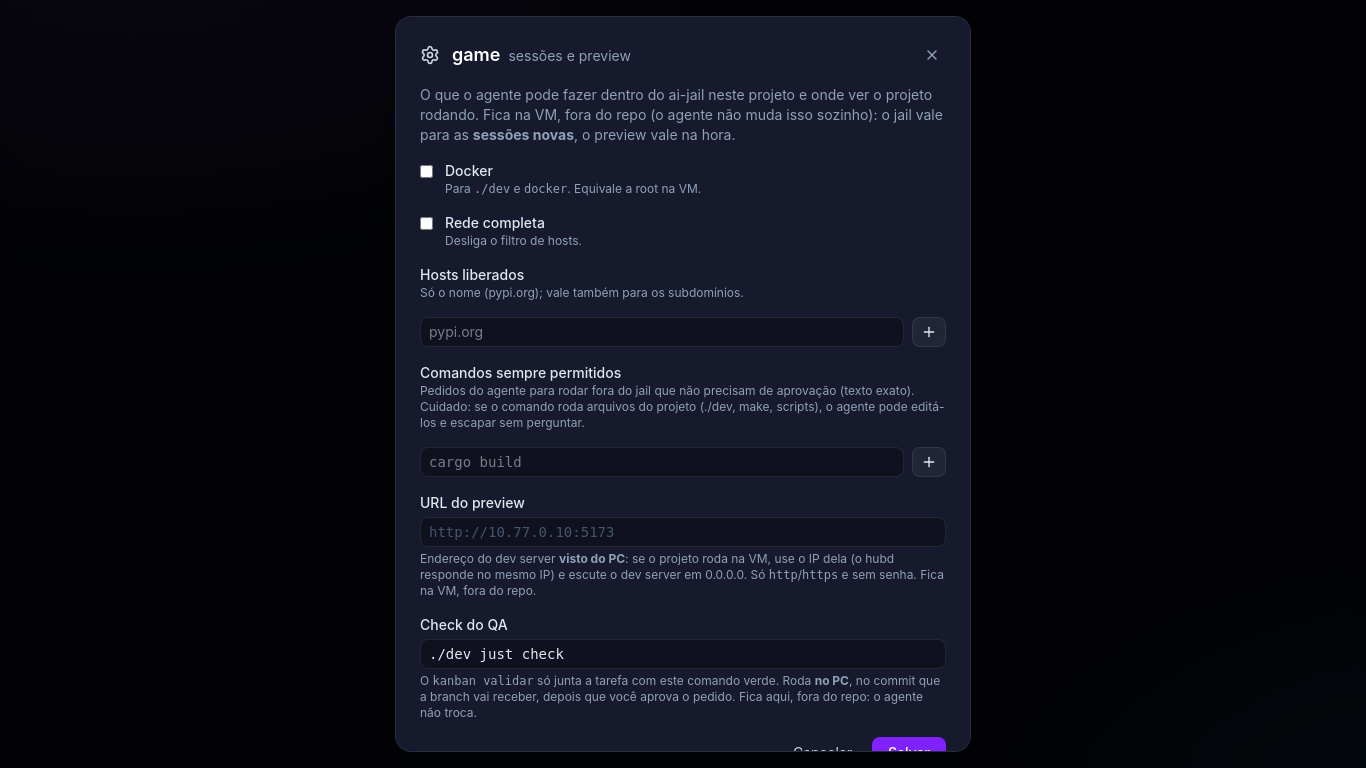
Scenario: ProjectSettingsDialog › rede completa mostra o aviso e desliga a lista de hosts
What coordinates should you click on to do the following:
click the checkbox labelled "Rede completa Desliga o filtro de hosts."
I would click on:
 (426, 224)
Its box is [420,217,433,230].
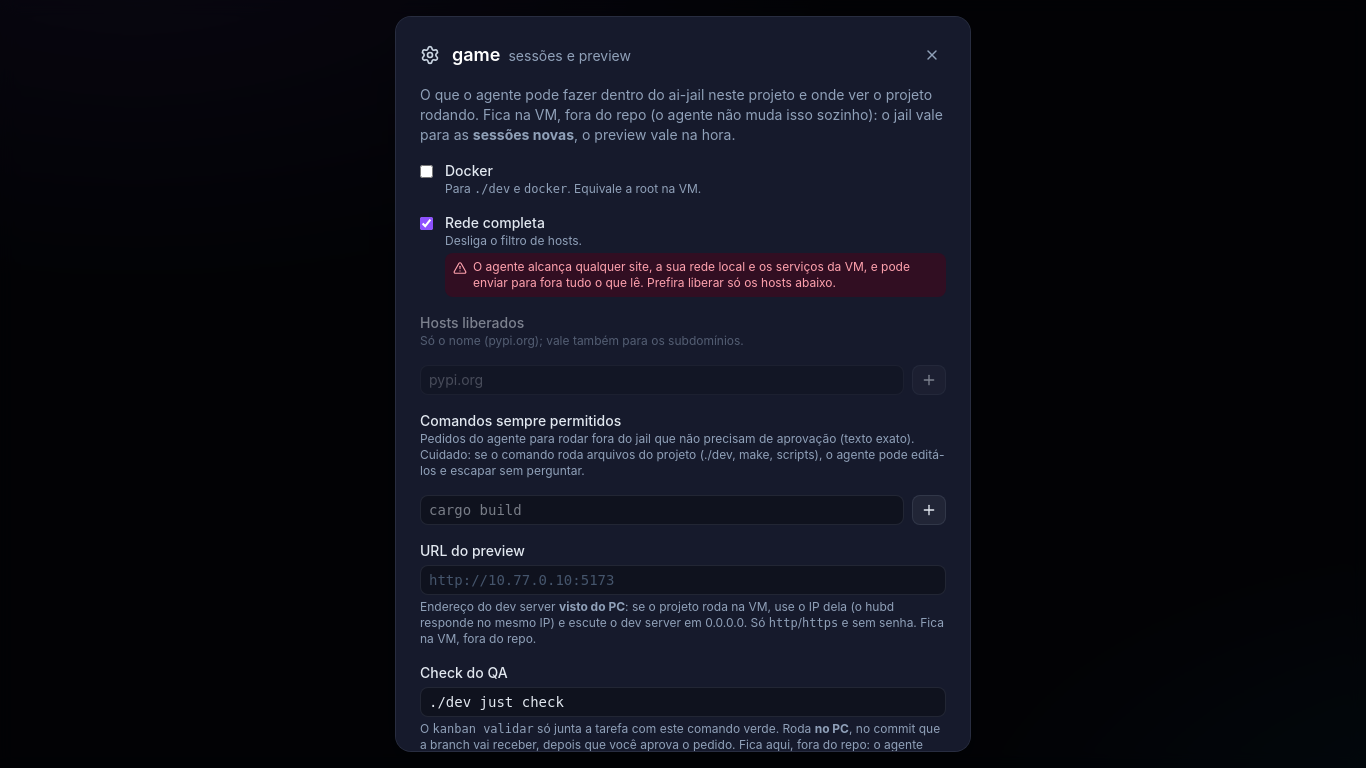
expect the text "rede local" is shown: met, box [473,259,910,290]
expect the field named "Novo em Hosts liberados" is disabled: met, box [420,365,904,395]
